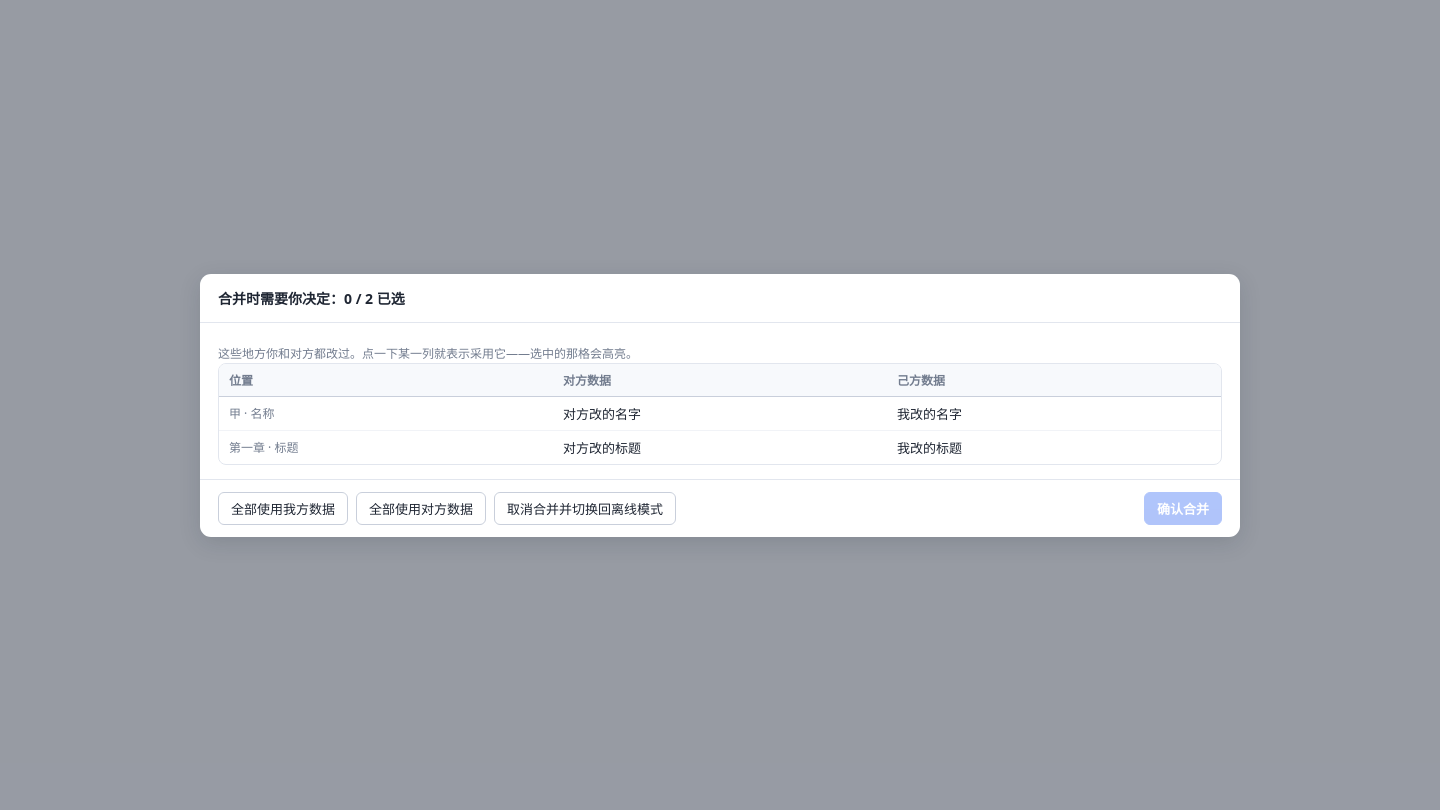
Test: ConflictPanel › 表头写着已选几条
Expected: the header shows "0 / 2 已选", [200,274,1240,322]
What coordinates should you click on to do the following:
click the cell titled "点这里采用对方的数据"
I would click on:
 (720, 413)
Its box is [553,396,887,430].
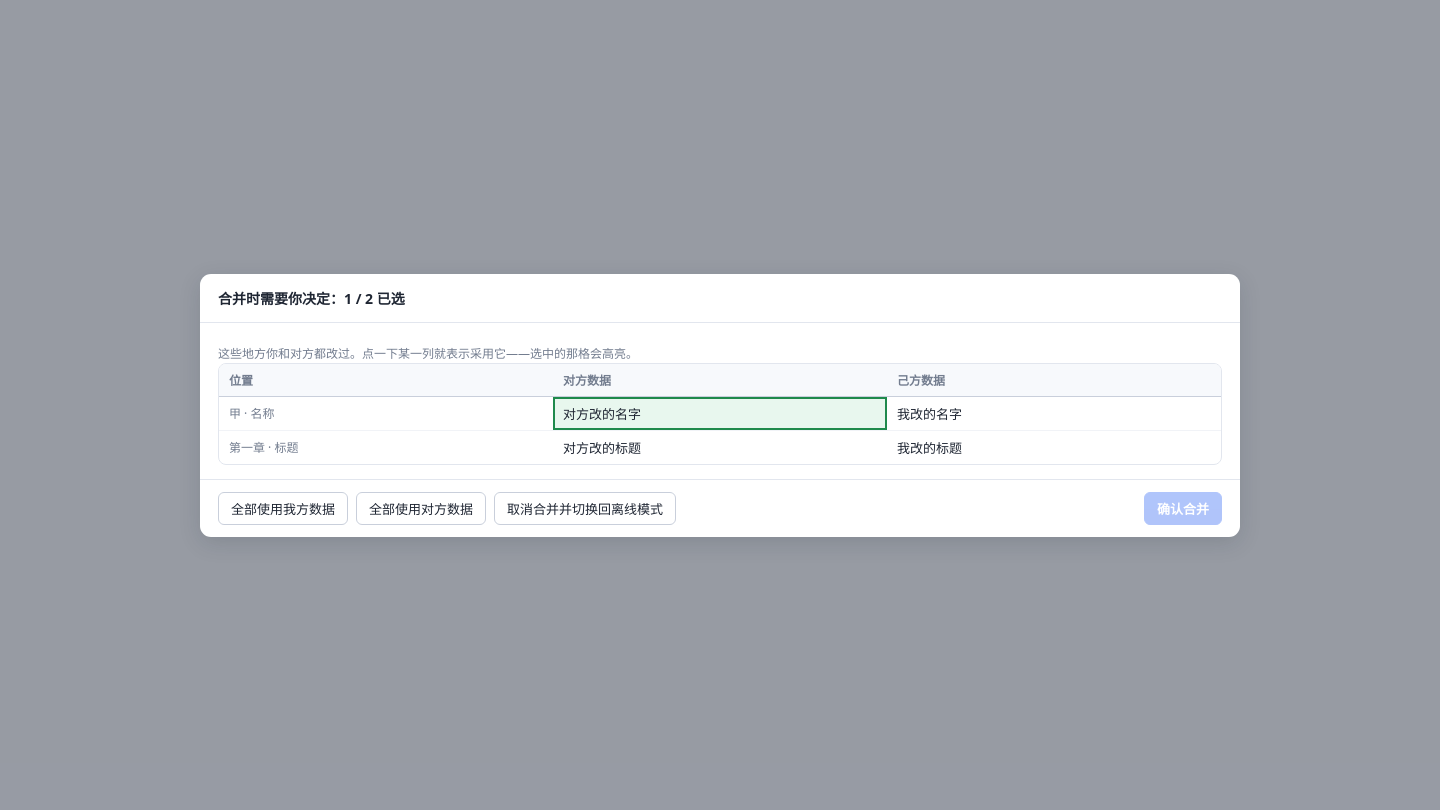
Expected: the header shows "1 / 2 已选", [200,274,1240,322]
